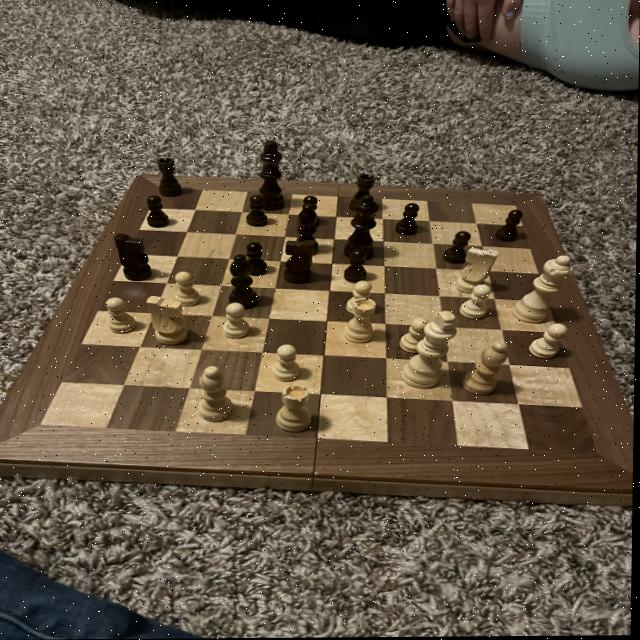bishop: (225, 254, 266, 310), (293, 202, 325, 260)
black-bishop: (255, 137, 290, 212)
black-king: (111, 231, 157, 283), (279, 236, 322, 288)
black-knight: (341, 247, 373, 285), (392, 201, 424, 238), (442, 228, 473, 266), (295, 192, 326, 229), (144, 193, 174, 230), (495, 208, 525, 245), (244, 192, 272, 230), (245, 240, 271, 278)
black-pawn: (342, 194, 381, 265)
black-queen: (155, 155, 186, 199), (348, 173, 378, 214)
black-rook: (462, 339, 509, 400), (197, 364, 239, 427)
white-bishop: (392, 310, 459, 392)
white-king: (144, 293, 196, 349), (451, 245, 502, 298)
white-knight: (528, 322, 569, 362), (219, 298, 257, 340), (399, 314, 436, 356), (104, 295, 141, 337), (458, 282, 493, 324), (344, 280, 382, 315), (273, 342, 304, 383), (172, 270, 205, 308)
white-pawn: (510, 255, 579, 327)
white-queen: (274, 383, 319, 434), (343, 295, 381, 346)
